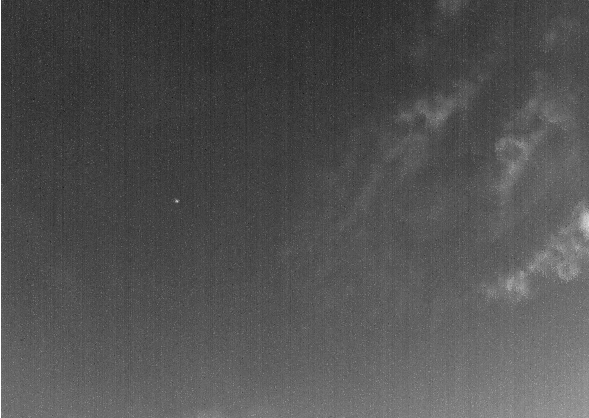dim target: (174, 198, 180, 204)
